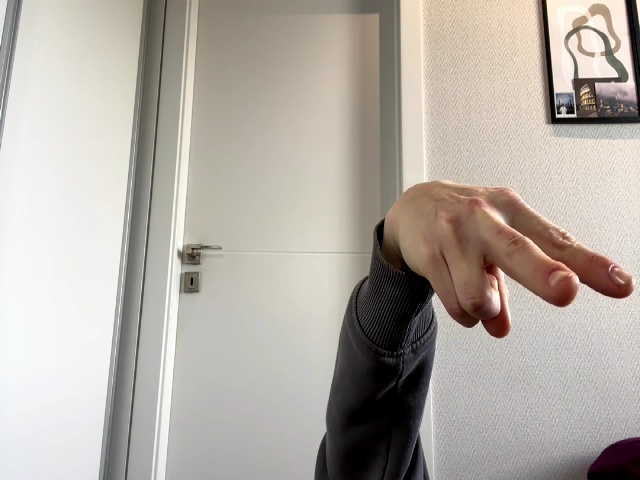U: (386, 179, 635, 336)
